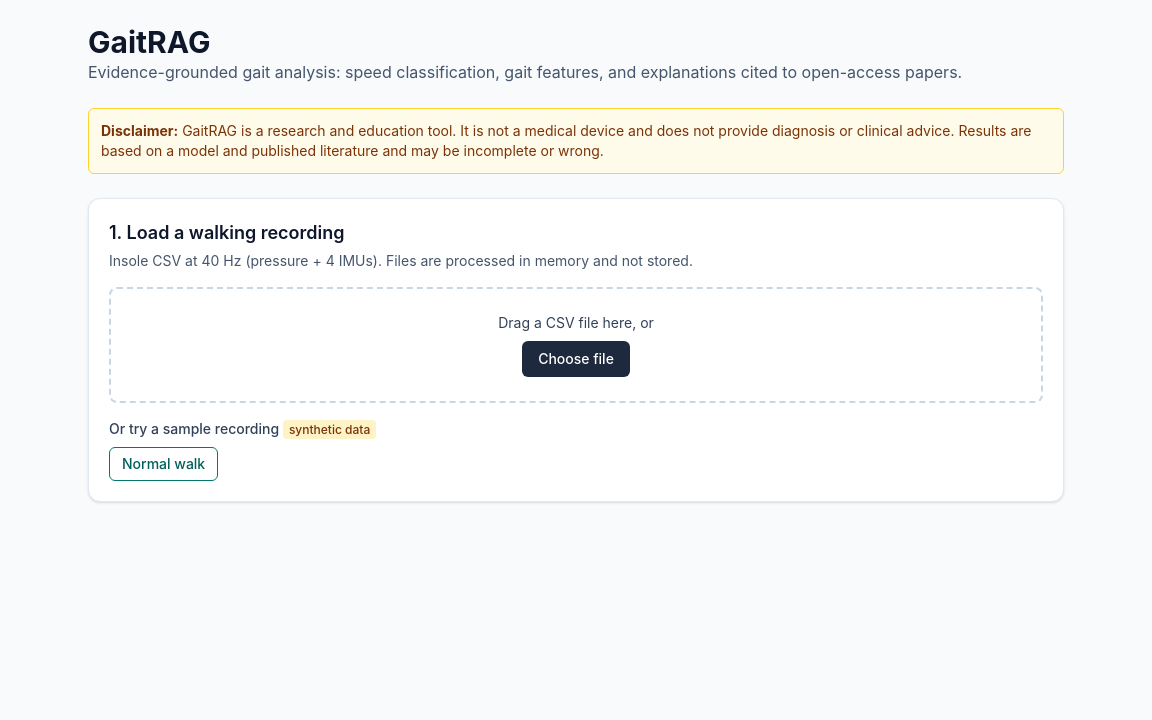
Test: keeps the analysis when explanations are unavailable (no LLM key)
This screenshot has width=1152, height=720.
Click the button "Normal walk": [164, 464] box left=109, top=447, right=218, bottom=481
(page scrolled)
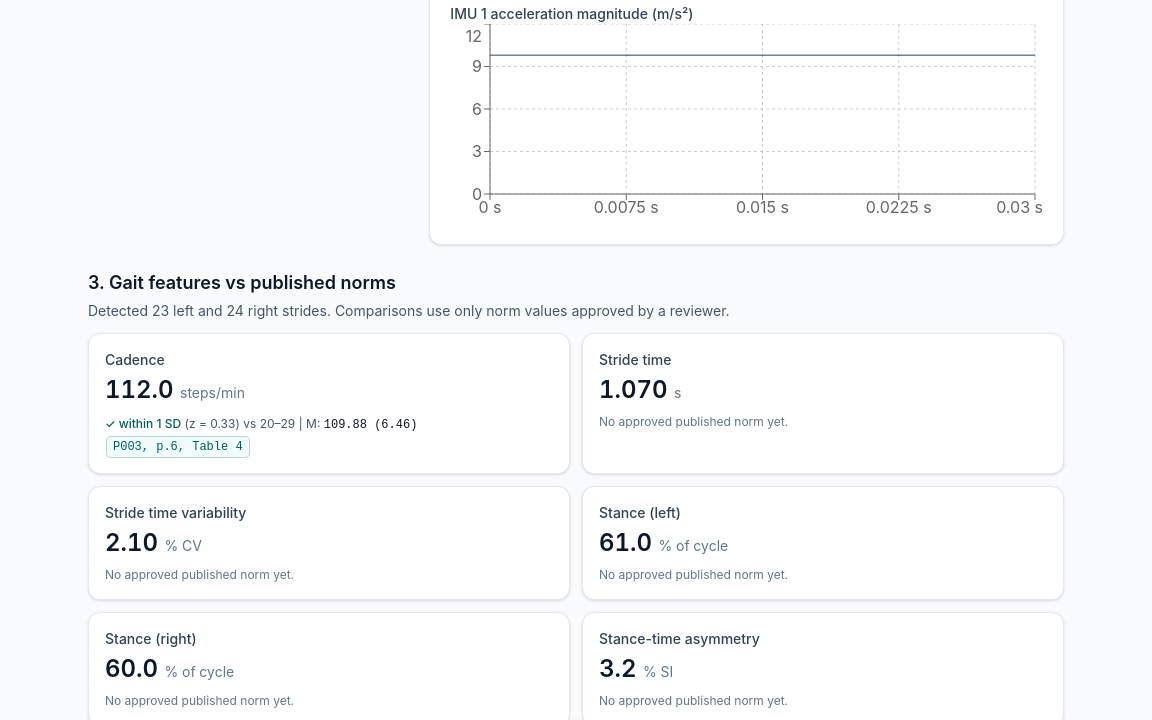
Expected: the text "Cadence" is shown, left=105, top=351, right=165, bottom=368
